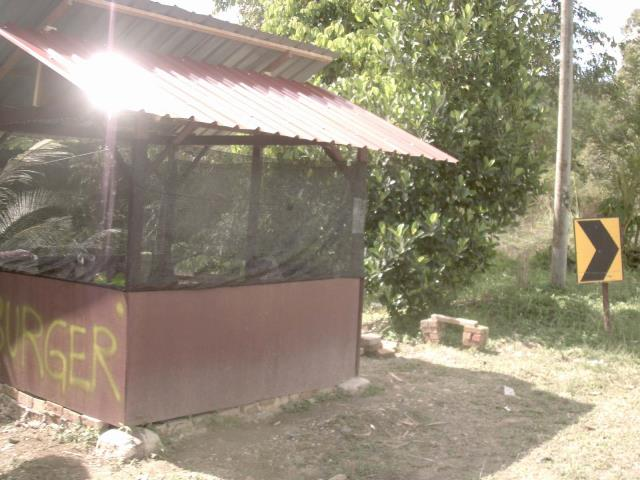traffic_sign: (566, 209, 629, 294)
